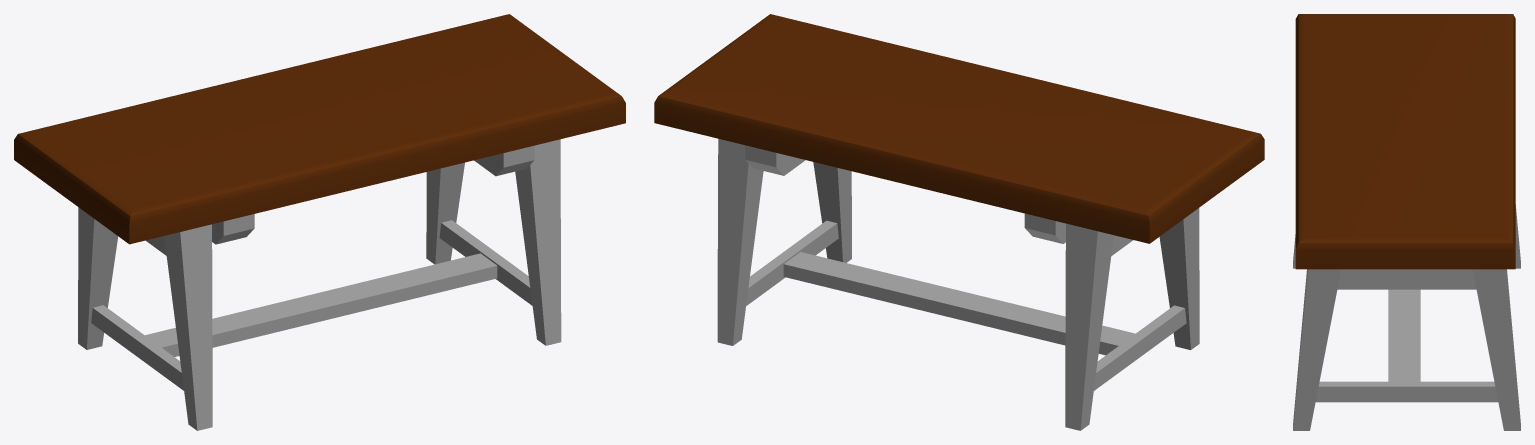
The model's file is Tabler.fbx.
3 renders of one model, left to right at view 1: azimuth 30°, elevation 25°; view 2: azimuth 150°, elevation 25°; view 3: azimuth 270°, elevation 25°, orthographic. The views are drawn at different scales.
Parts seen in each view (by area): view 1: pCube178; view 2: pCube178; view 3: pCube178.
Boxes of the visible parts, x1,y1,x2,y2 form: pCube178: (14, 14, 625, 430); pCube178: (654, 14, 1264, 430); pCube178: (1293, 14, 1520, 430).
Size of the model in its own units: 1046 by 465 by 436.
